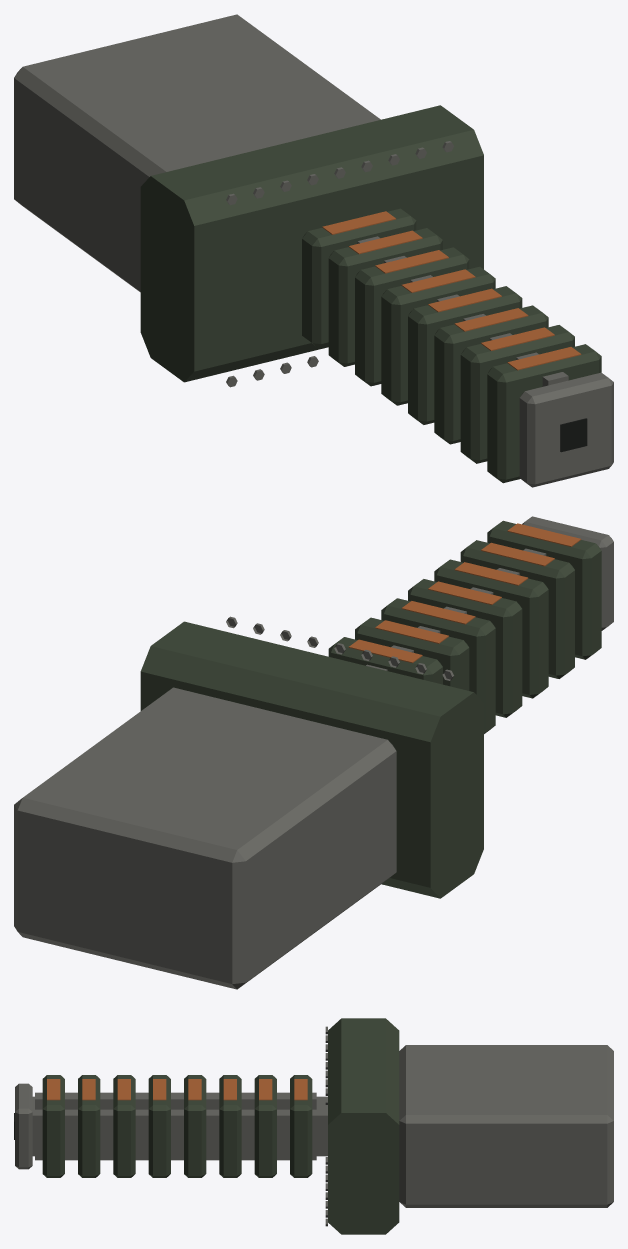
Rendered from kp30_coil.obj.
The picture shows the model from 3 angles, top to bottom: view 1: azimuth 30°, elevation 25°; view 2: azimuth 150°, elevation 25°; view 3: azimuth 270°, elevation 25°; orthographic projection. The views are drawn at different scales.
Parts seen in each view (by area): view 1: kp30_coil; view 2: kp30_coil; view 3: kp30_coil.
Boxes of the visible parts, <box> form: kp30_coil: <box>14,14,613,487</box>; kp30_coil: <box>14,516,613,989</box>; kp30_coil: <box>14,1018,613,1234</box>.
Bounding box in the file's own units: 1 × 0.63 × 2.68.
